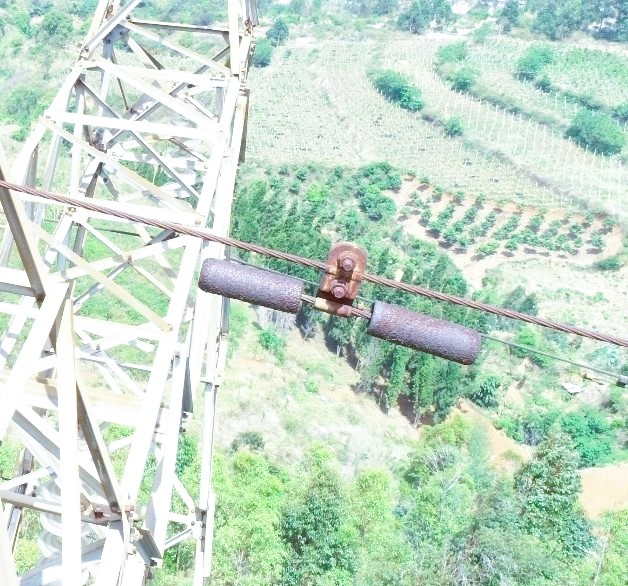Shockproof hammer: (185, 232, 491, 370)
